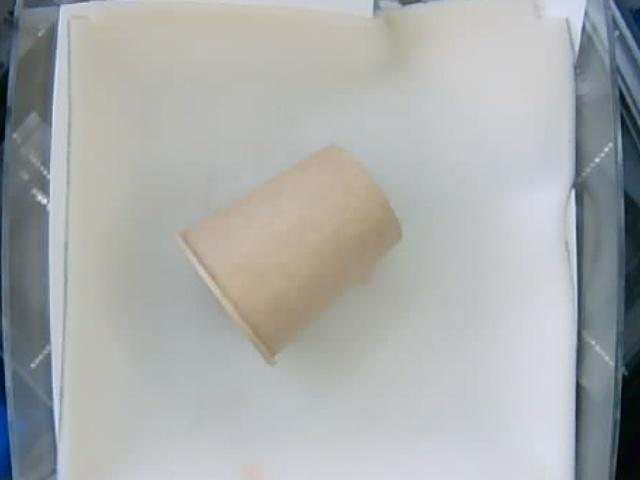Cup: (176, 143, 406, 367)
